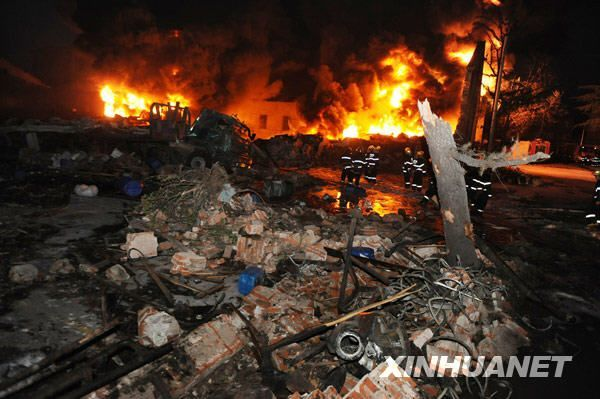fire: (322, 14, 507, 135), (92, 56, 208, 129)
